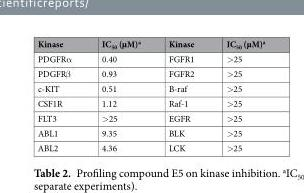table: (36, 36, 264, 153)
table column: (86, 36, 153, 153), (153, 36, 209, 153), (209, 36, 264, 153), (36, 36, 86, 153)
table column header: (36, 36, 264, 51)
table row: (36, 36, 264, 51), (36, 65, 264, 80), (36, 80, 264, 95), (36, 95, 264, 110), (36, 110, 264, 125), (36, 125, 264, 140), (36, 51, 264, 65), (36, 140, 264, 153)
